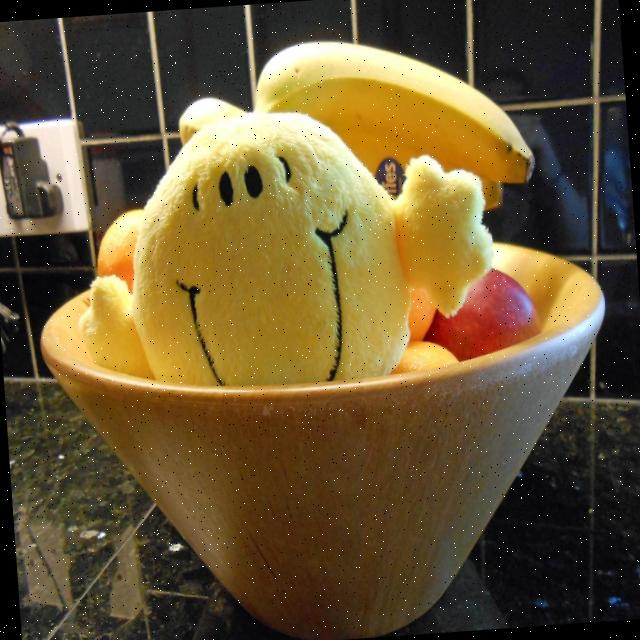banana: (253, 41, 535, 187)
